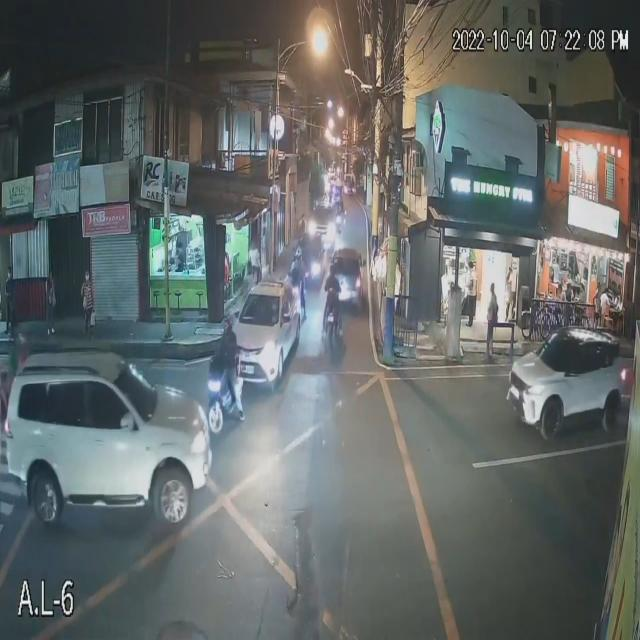Full-Faced: (219, 308, 236, 340), (328, 260, 342, 281), (295, 244, 303, 260)
